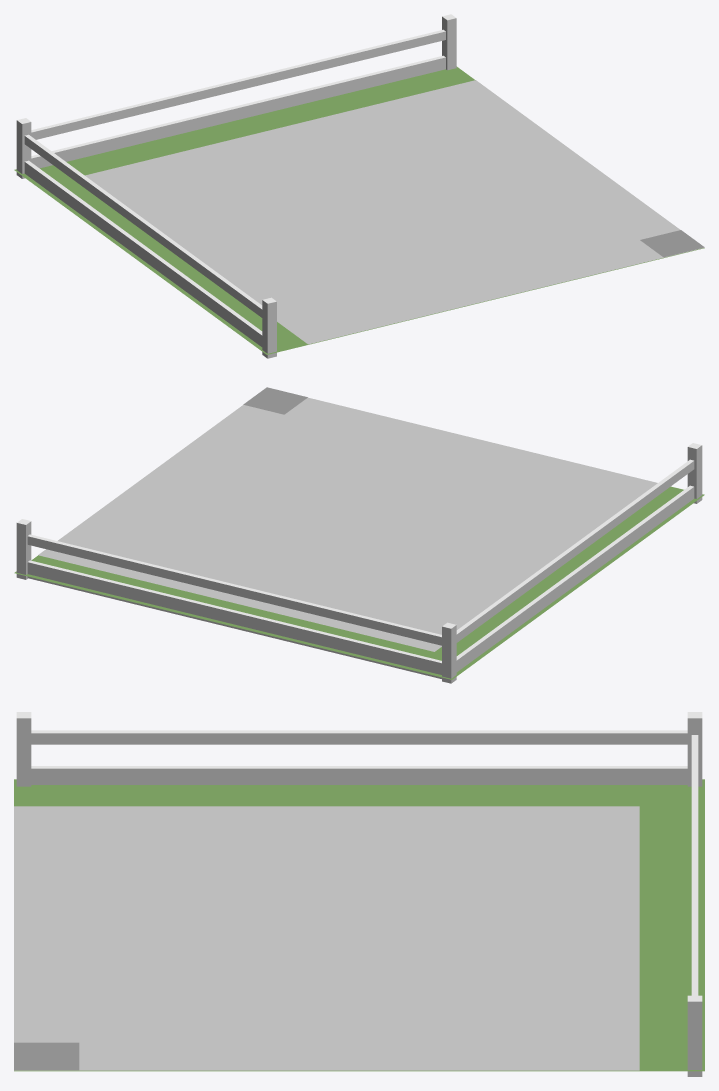
File: tile_for_home_1x1_014.glb
3 renders of one model, top to bottom at view 1: azimuth 30°, elevation 25°; view 2: azimuth 150°, elevation 25°; view 3: azimuth 270°, elevation 25°, orthographic. The views are drawn at different scales.
Parts seen in each view (by area): view 1: tile_for_home_1x1_014; view 2: tile_for_home_1x1_014; view 3: tile_for_home_1x1_014.
Part boxes in pixels (left/top/right/bottom): tile_for_home_1x1_014: left=14, top=14, right=704, bottom=358; tile_for_home_1x1_014: left=14, top=387, right=704, bottom=683; tile_for_home_1x1_014: left=14, top=712, right=704, bottom=1076.
Size of the model in its own units: 8 by 0.959 by 8.
1 material, 1 textured.
